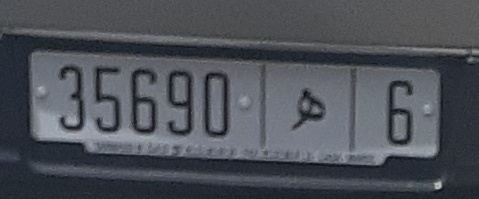0: (199, 68, 235, 138)
3: (57, 61, 87, 131)
5: (93, 62, 126, 134)
6: (383, 76, 418, 150), (127, 65, 162, 135)
9: (164, 66, 196, 138)
h: (284, 83, 334, 138)
